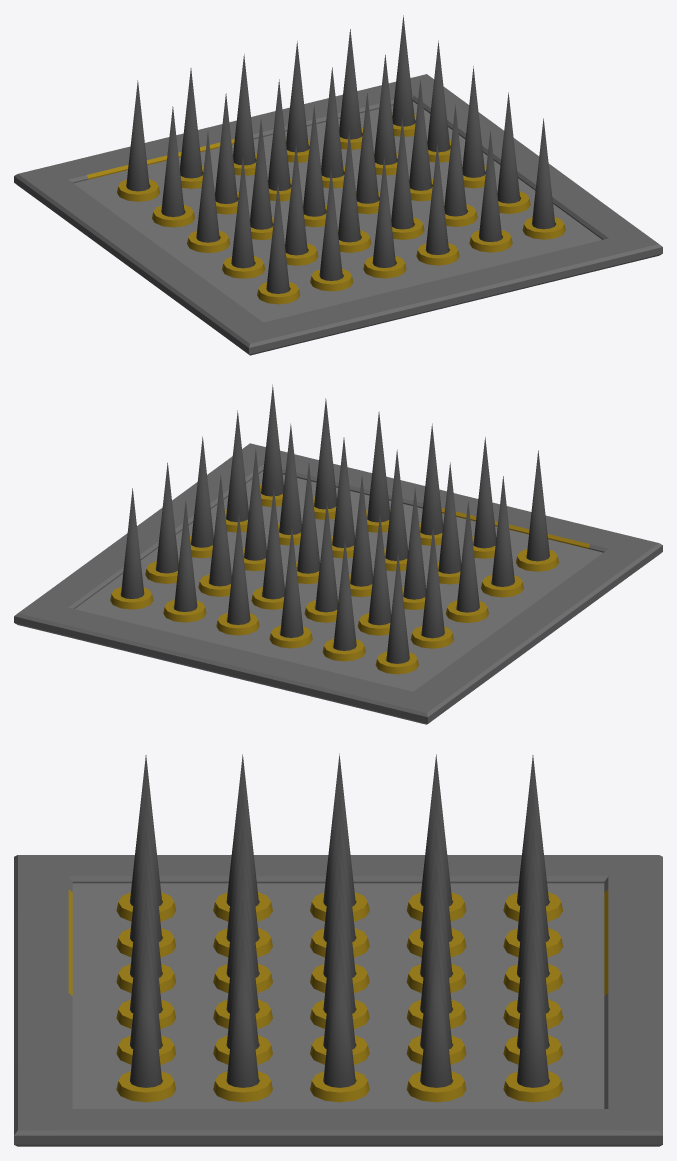
The model's file is SpikeTrap_Raised.fbx.
The picture shows the model from 3 angles, top to bottom: view 1: azimuth 30°, elevation 25°; view 2: azimuth 150°, elevation 25°; view 3: azimuth 270°, elevation 25°; orthographic projection. The views are drawn at different scales.
Visible parts, largest first — view 1: SpikeTrap_Raised; view 2: SpikeTrap_Raised; view 3: SpikeTrap_Raised.
Part boxes in pixels (left/top/right/bottom): SpikeTrap_Raised: left=14, top=15, right=662, bottom=355; SpikeTrap_Raised: left=14, top=384, right=662, bottom=724; SpikeTrap_Raised: left=14, top=753, right=662, bottom=1146.
Size of the model in its own units: 465 by 131 by 457.
